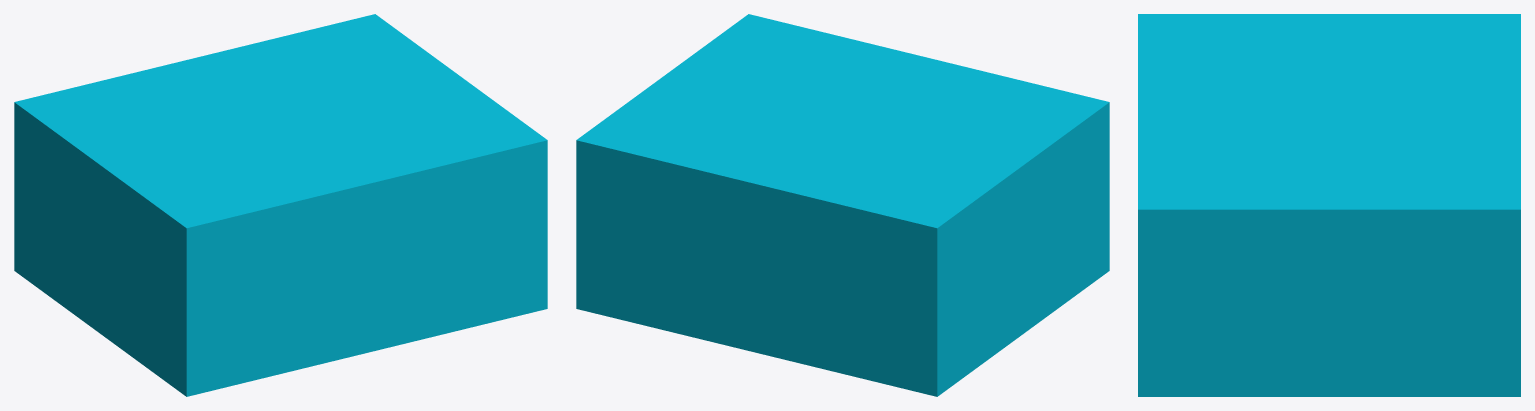
File: furnishingelement-0610-x-0610-x-0610mm.glb
The picture shows the model from 3 angles, left to right: view 1: azimuth 30°, elevation 25°; view 2: azimuth 150°, elevation 25°; view 3: azimuth 270°, elevation 25°; orthographic projection. The views are drawn at different scales.
Parts seen in each view (by area): view 1: 0BTBFw6f90Nfh9rP1dl_CZ; view 2: 0BTBFw6f90Nfh9rP1dl_CZ; view 3: 0BTBFw6f90Nfh9rP1dl_CZ.
Boxes of the visible parts, x1,y1,x2,y2 form: 0BTBFw6f90Nfh9rP1dl_CZ: (14, 14, 547, 396); 0BTBFw6f90Nfh9rP1dl_CZ: (576, 14, 1109, 396); 0BTBFw6f90Nfh9rP1dl_CZ: (1138, 14, 1520, 396).
Size of the model in its own units: 5.78 by 2.6 by 4.78.
